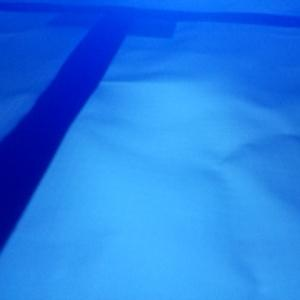bottom_left: (45, 6, 130, 26)
bottom_right: (106, 10, 177, 39)
